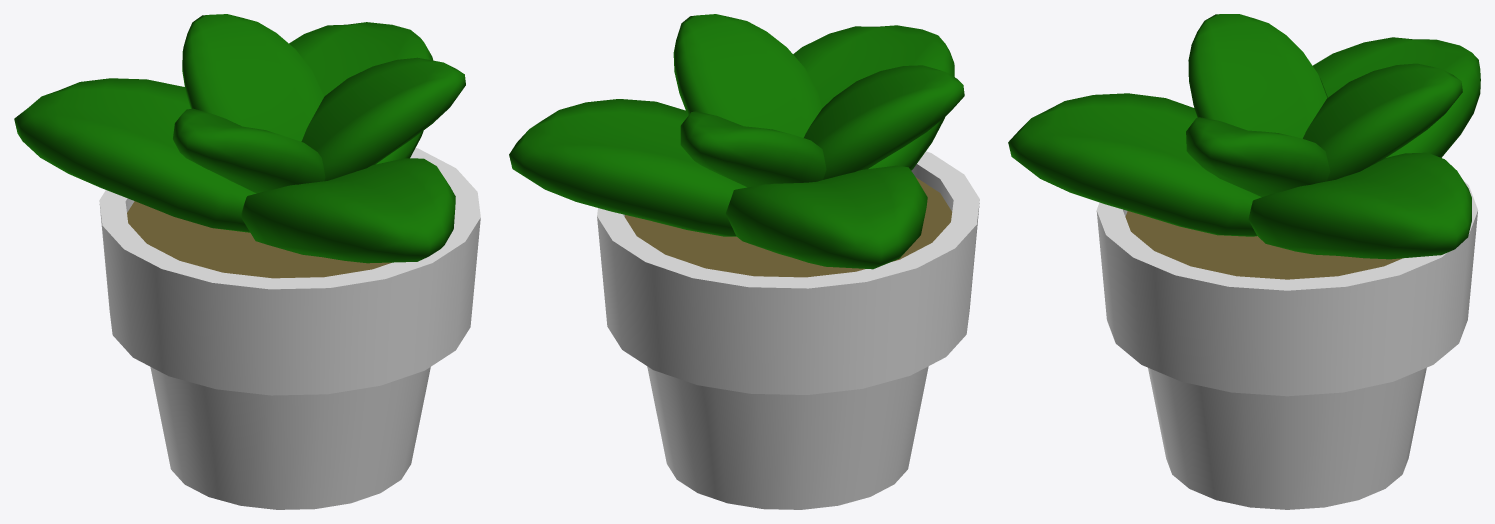
File: PotSucculent.fbx
The picture shows the model from 3 angles, left to right: view 1: azimuth 30°, elevation 25°; view 2: azimuth 150°, elevation 25°; view 3: azimuth 270°, elevation 25°; orthographic projection.
Visible parts, largest first — view 1: PotPlant; view 2: PotPlant; view 3: PotPlant.
Boxes of the visible parts, <box> form: PotPlant: <box>14,14,480,509</box>; PotPlant: <box>509,14,979,509</box>; PotPlant: <box>1008,14,1480,509</box>.
Size of the model in its own units: 0.3745 by 0.3558 by 0.3986.
